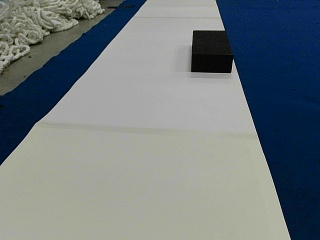block: (191, 29, 233, 72)
